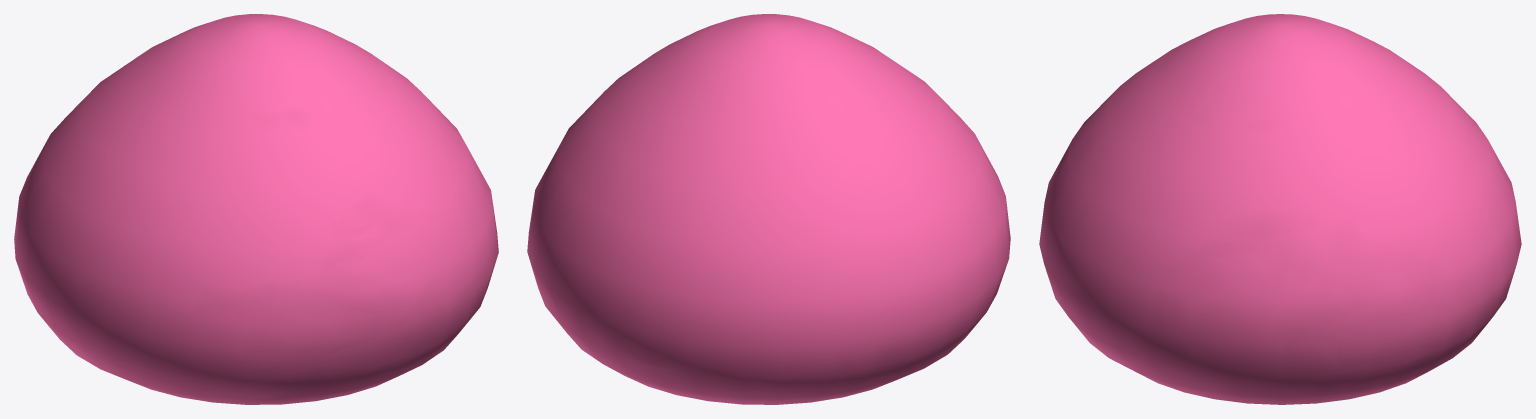
Rendered from slimeBody_pink.gltf.
The picture shows the model from 3 angles, left to right: view 1: azimuth 30°, elevation 25°; view 2: azimuth 150°, elevation 25°; view 3: azimuth 270°, elevation 25°; orthographic projection.
Visible parts, largest first — view 1: Slime_Slime_0.001, Slime_Slime_0; view 2: Slime_Slime_0.001, Slime_Slime_0; view 3: Slime_Slime_0.001, Slime_Slime_0.
Boxes of the visible parts, left/top/right/bottom form: Slime_Slime_0.001: left=14, top=85, right=498, bottom=404; Slime_Slime_0: left=82, top=14, right=429, bottom=188; Slime_Slime_0.001: left=527, top=85, right=1010, bottom=404; Slime_Slime_0: left=596, top=14, right=942, bottom=187; Slime_Slime_0.001: left=1039, top=87, right=1521, bottom=404; Slime_Slime_0: left=1107, top=14, right=1453, bottom=186.
Size of the model in its own units: 1.03 by 0.7421 by 1.03.
1 material, 1 textured.
